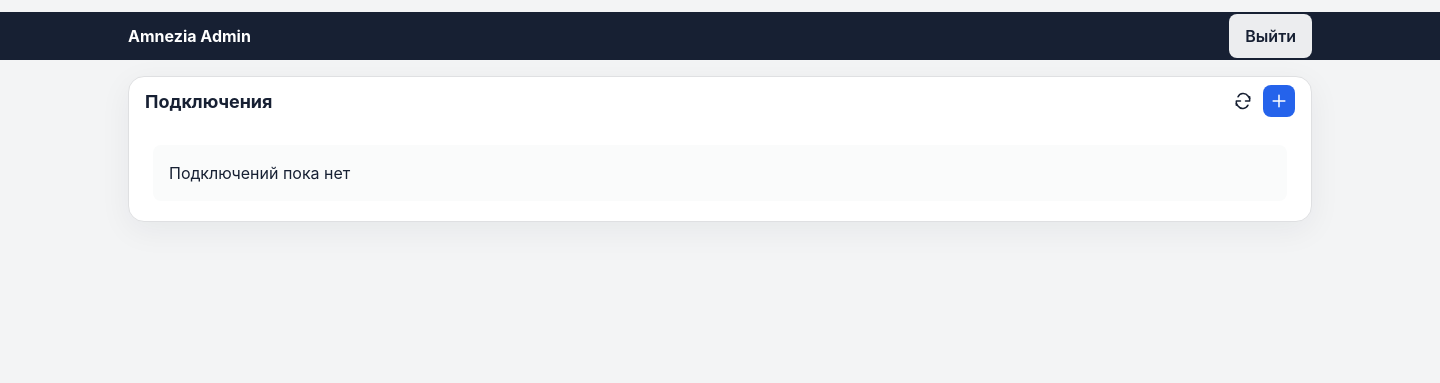
Test: cookie session › keeps the admin screen when logout fails
Expected: the text "Подключений пока нет" is shown, [153,145,1287,201]
What coordinates should you click on to do the following:
click the button "Выйти"
I would click on:
 (1271, 36)
Its box is [1229,14,1312,58].
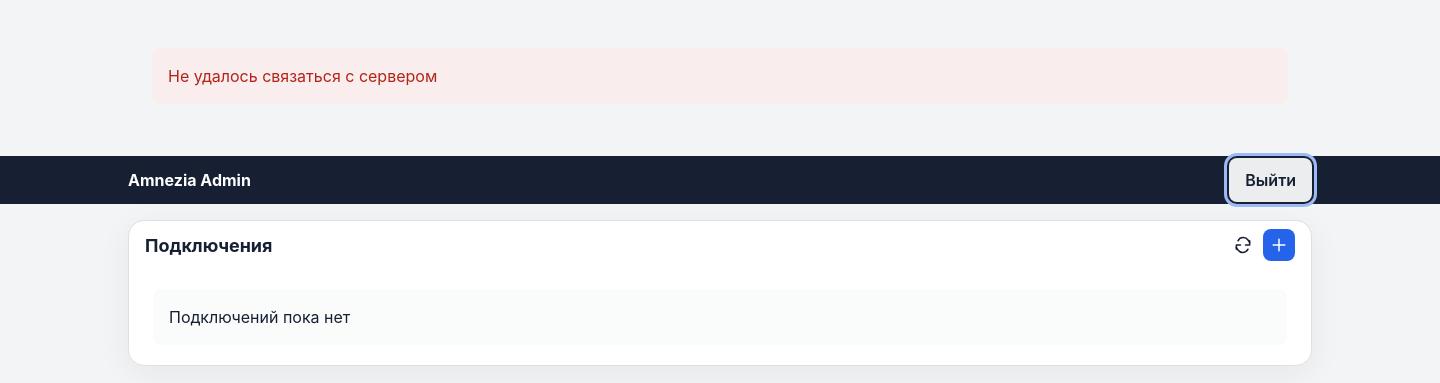
Expected: the heading "Подключения" is shown, [145,232,272,258]
Expected: the message reads "Не удалось связаться с сервером", [168,66,437,86]
